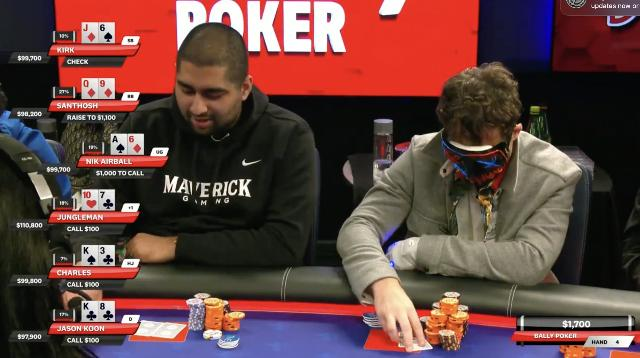10H: (82, 190, 98, 210)
3C: (98, 246, 114, 266)
6D: (128, 136, 144, 154)
6S: (98, 23, 114, 43)
7C: (98, 189, 114, 210)
8C: (100, 302, 114, 322)
9D: (98, 79, 114, 99)
AS: (111, 134, 127, 154)
JD: (82, 23, 98, 43)
KC: (82, 302, 98, 322)
KS: (82, 246, 98, 266)
QD: (82, 78, 98, 99)
